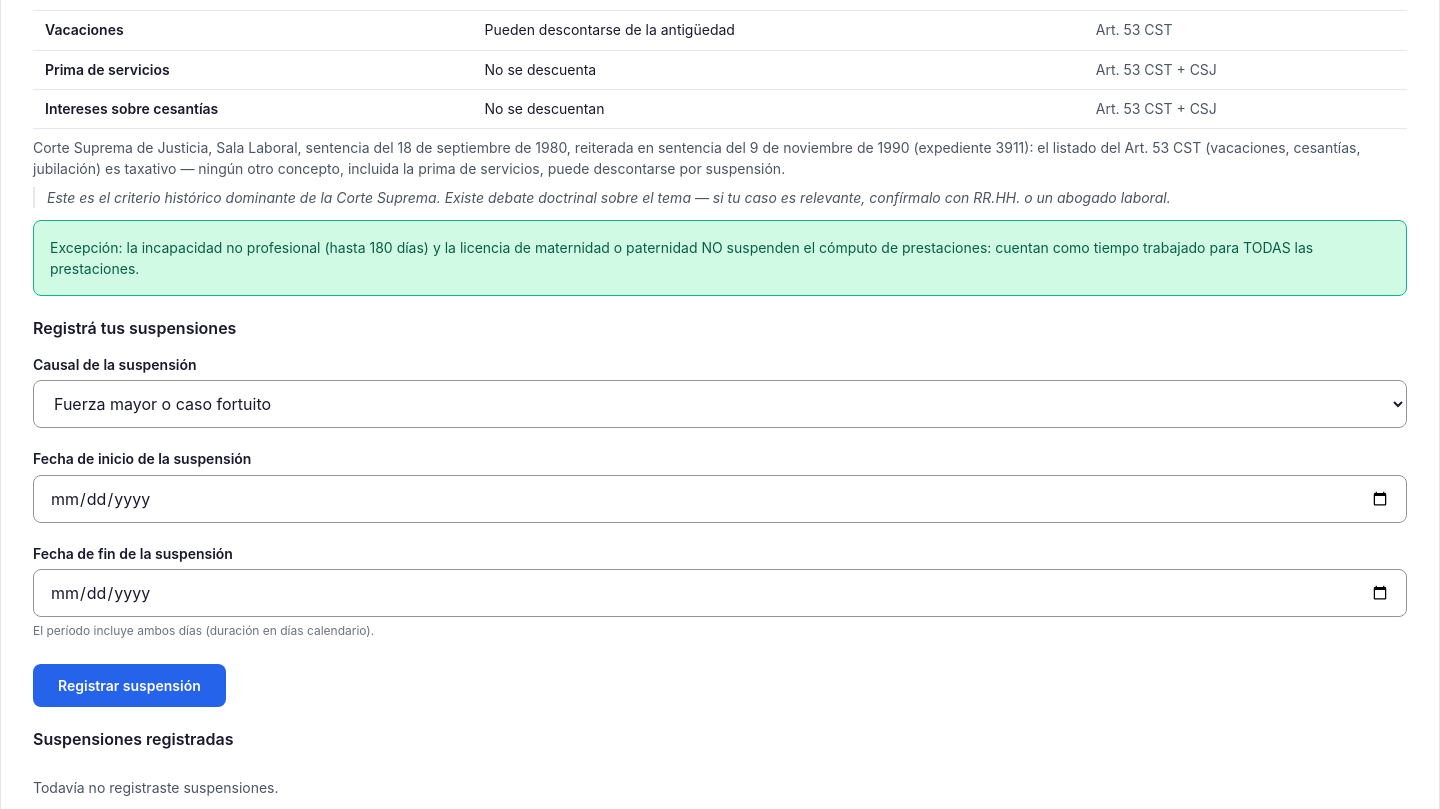
Test case: SuspensionSection — registry CRUD + persistence (REQ-4) › edits an existing record and replaces the stored one
The image size is (1440, 809).
(page scrolled)
Select "Fuerza mayor o caso fortuito" in the dropdown labelled "Causal de la suspensión" at (720, 404), box [33,380,1407,428]
Type "2026-01-01" into the date field labelled "Fecha de inicio de la suspensión" at (720, 499), box [33,475,1407,523]
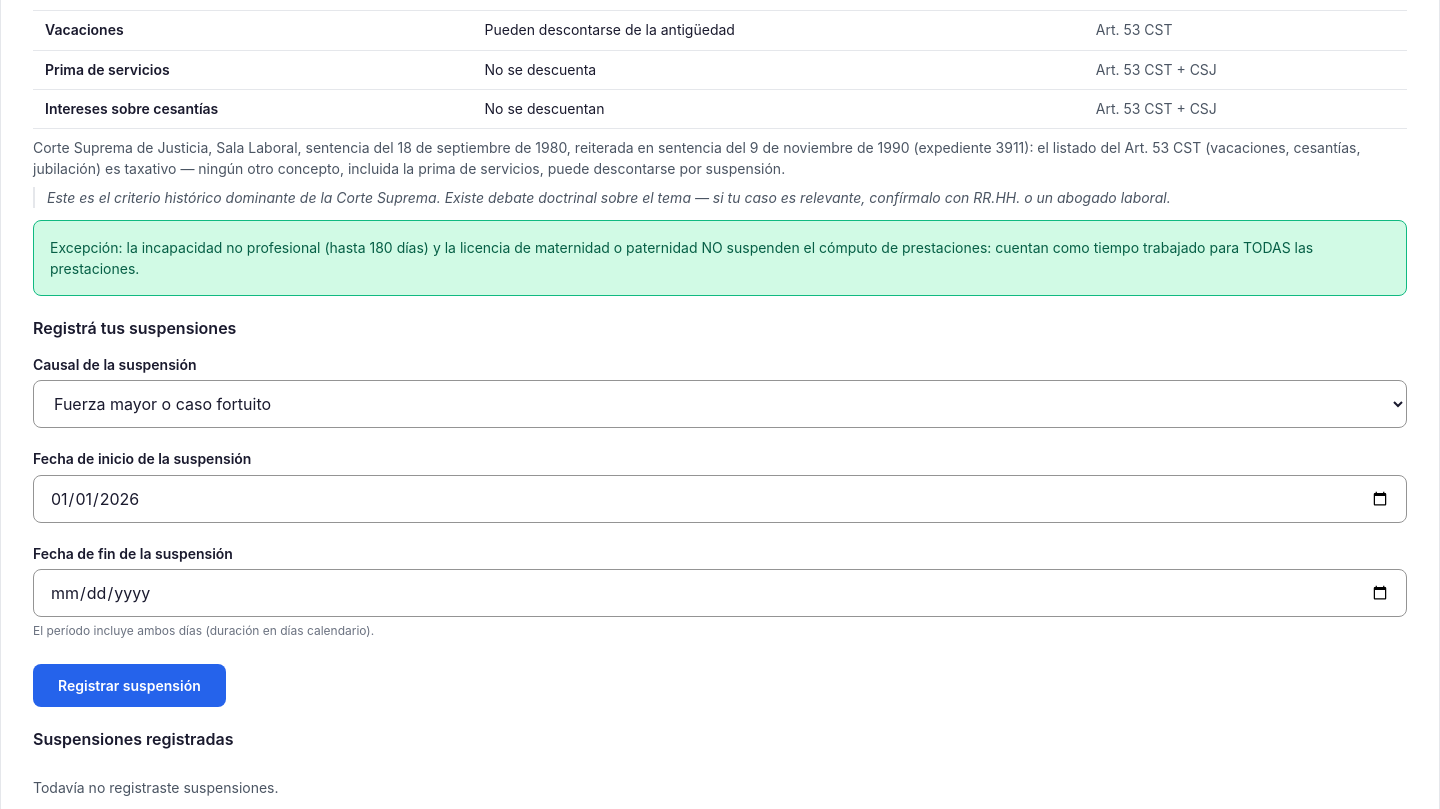
Type "2026-01-05" into the date field labelled "Fecha de fin de la suspensión" at (720, 593), box [33,569,1407,617]
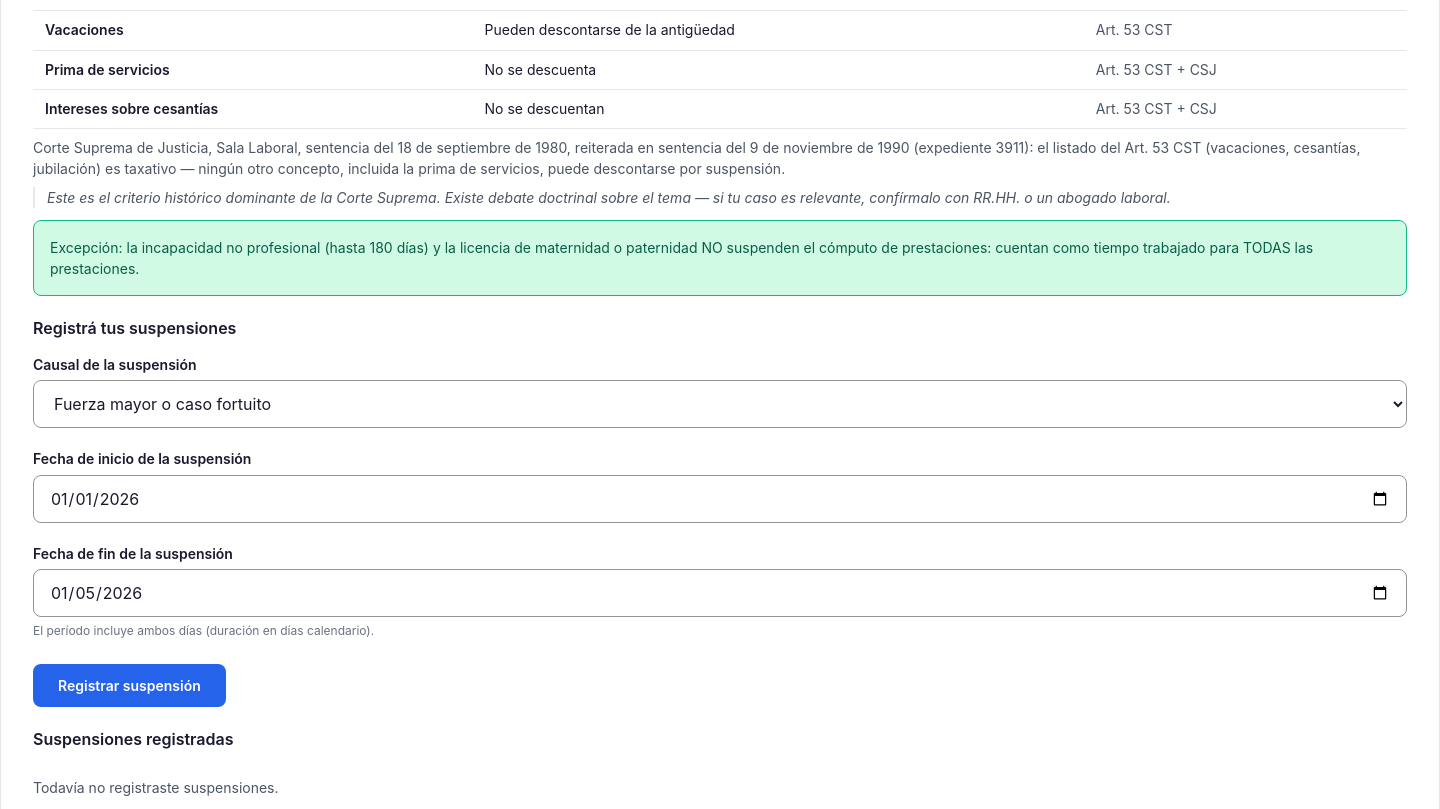
Click the button "Registrar suspensión" at (129, 686), box [33,664,226,707]
(page scrolled)
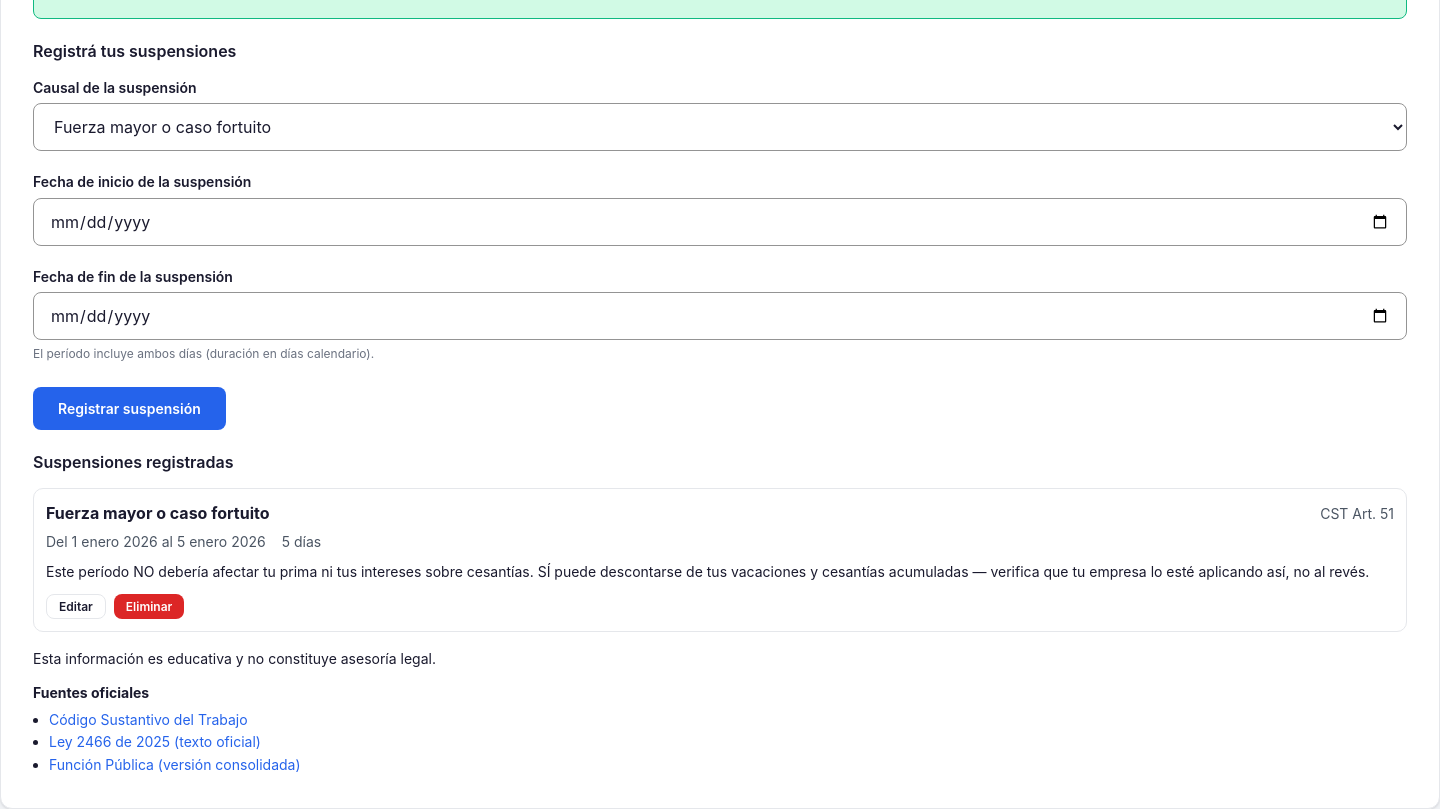
Click the button "Editar" at (76, 606), box [46,594,106,619]
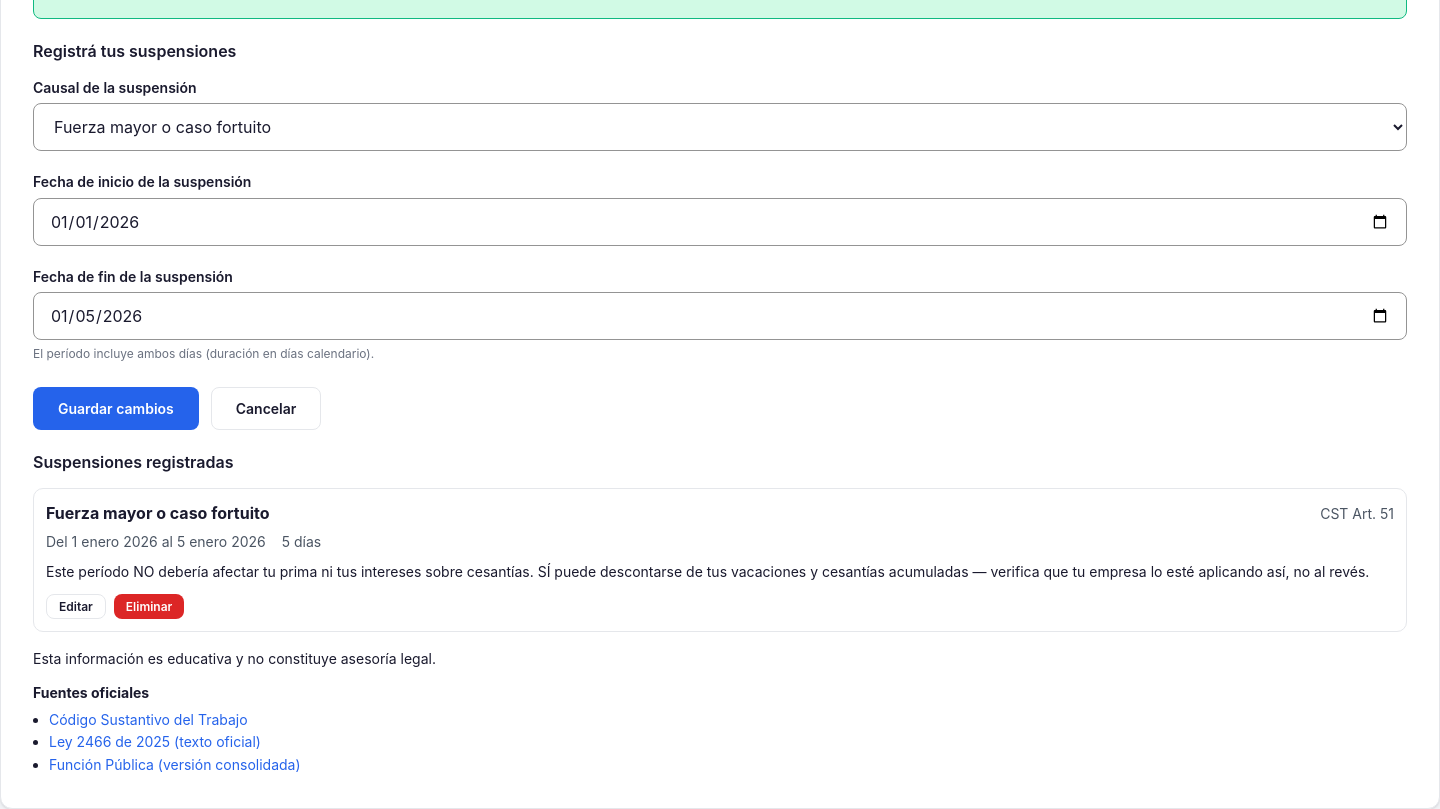
Type "2026-01-10" into the date field labelled "Fecha de fin de la suspensión" at (720, 316), box [33,292,1407,340]
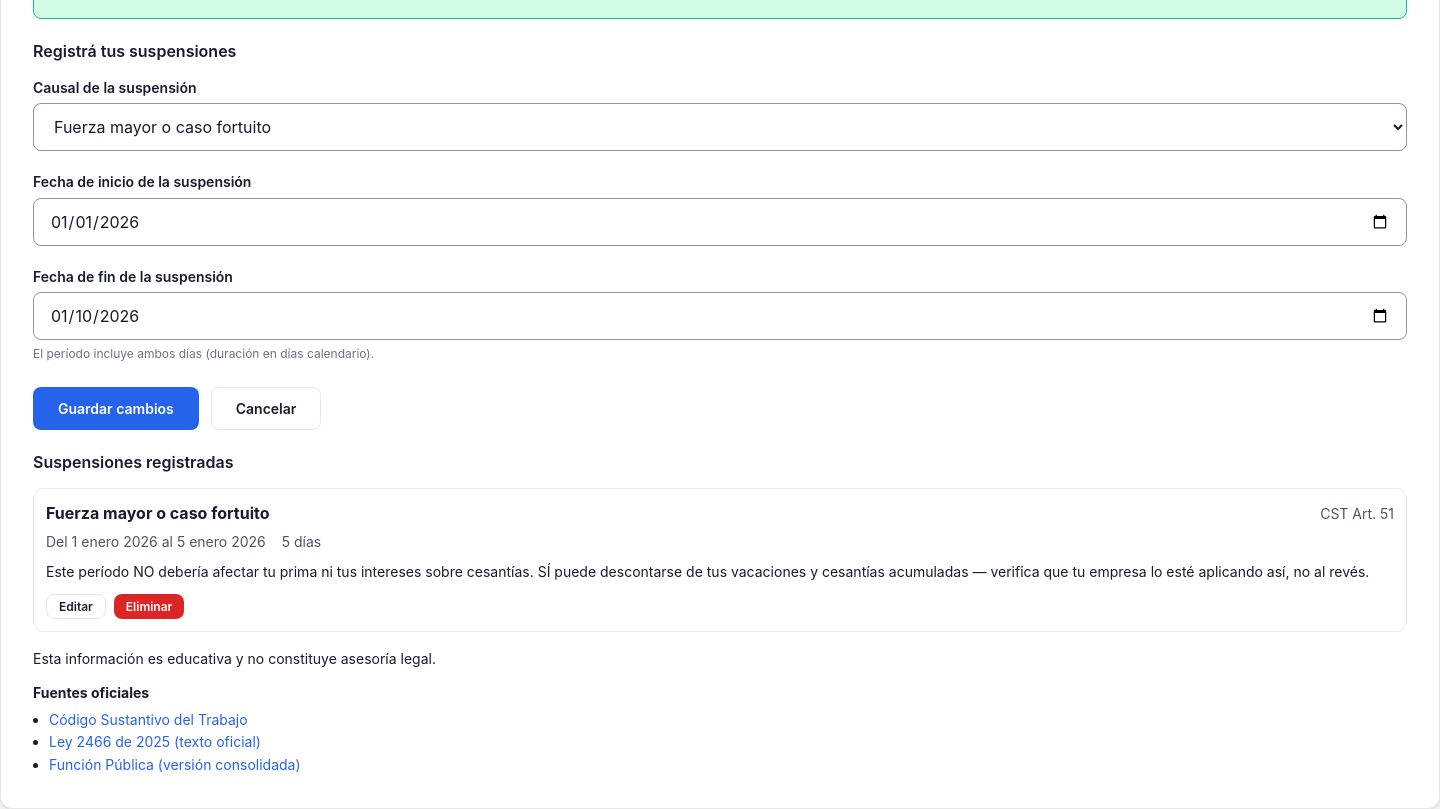
Click the button "Guardar cambios" at (116, 409), box [33,387,199,430]
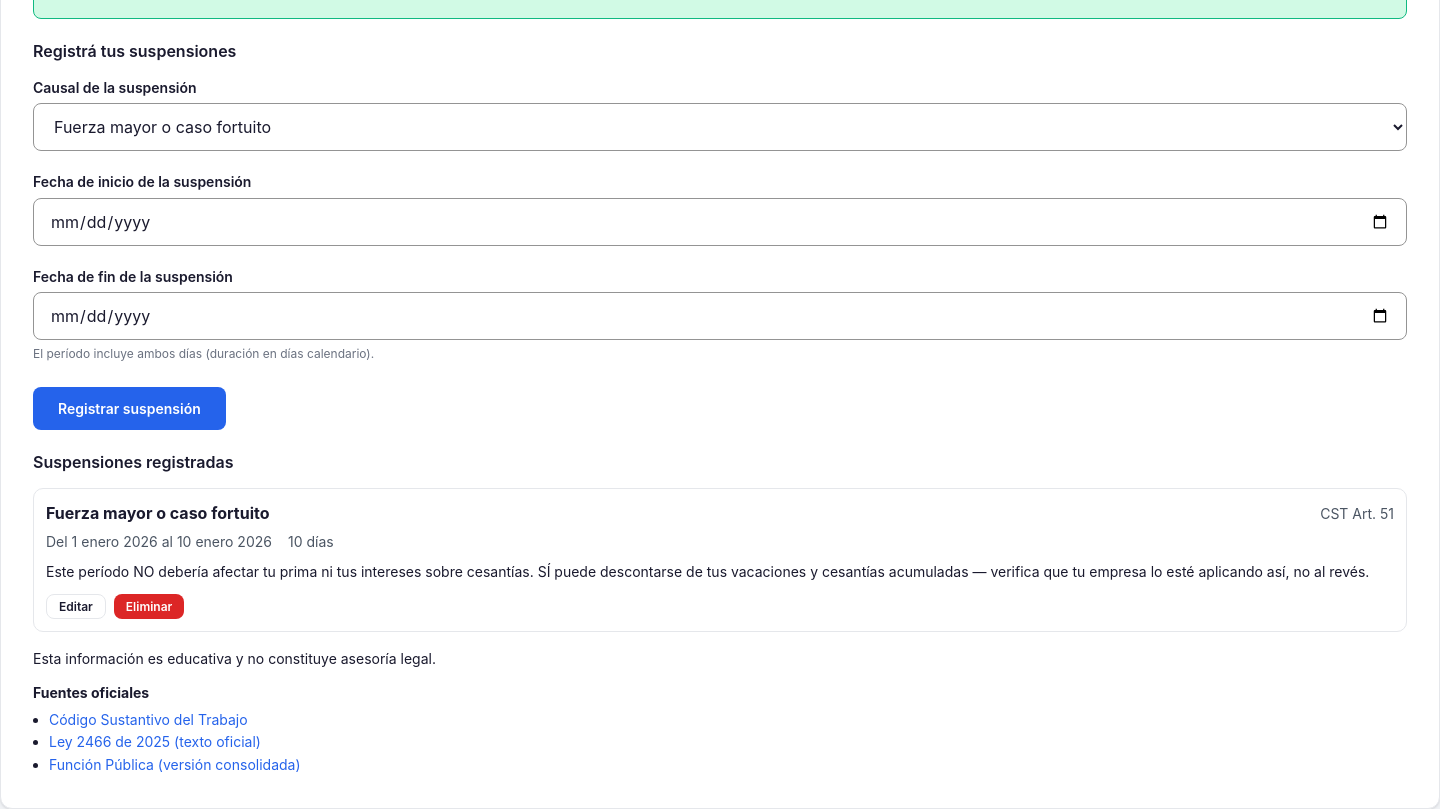
Expected: the text "Del 1 enero 2026 al 10 enero 2026" is shown, [46,530,272,553]
Expected: the text "10 días" is shown, [288,530,334,553]
